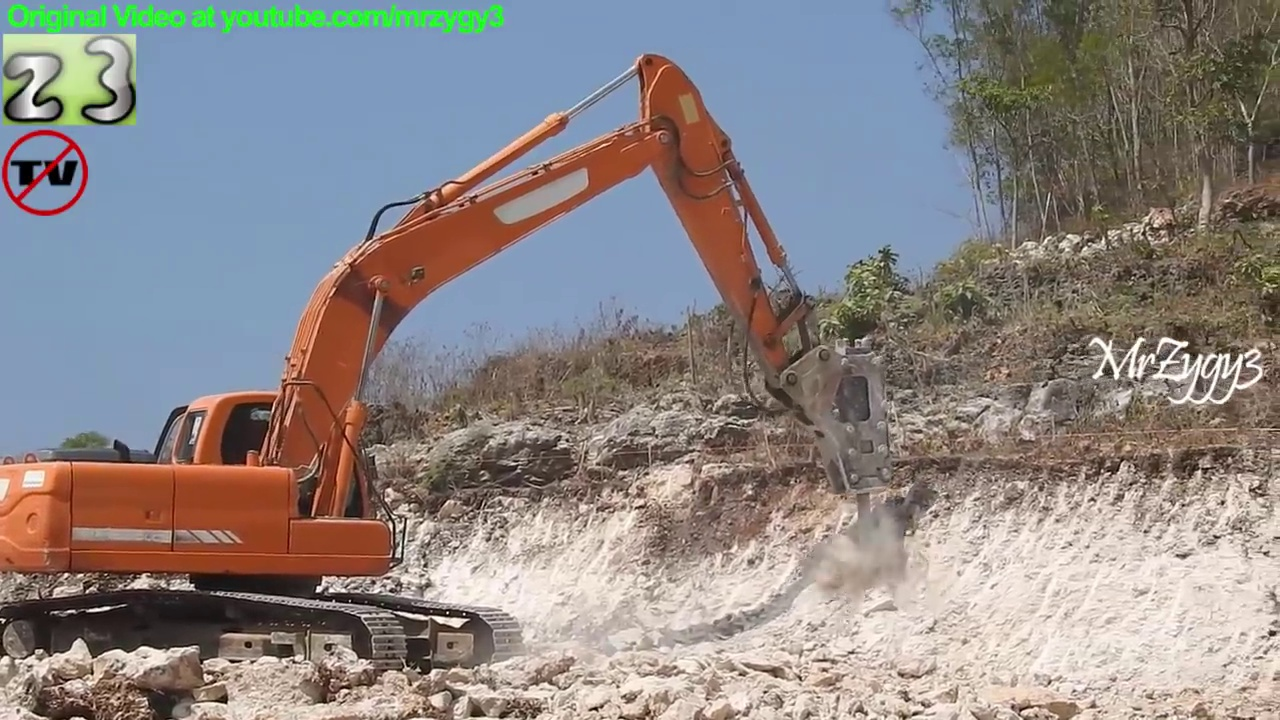excavator breaker: (1, 43, 903, 688)
